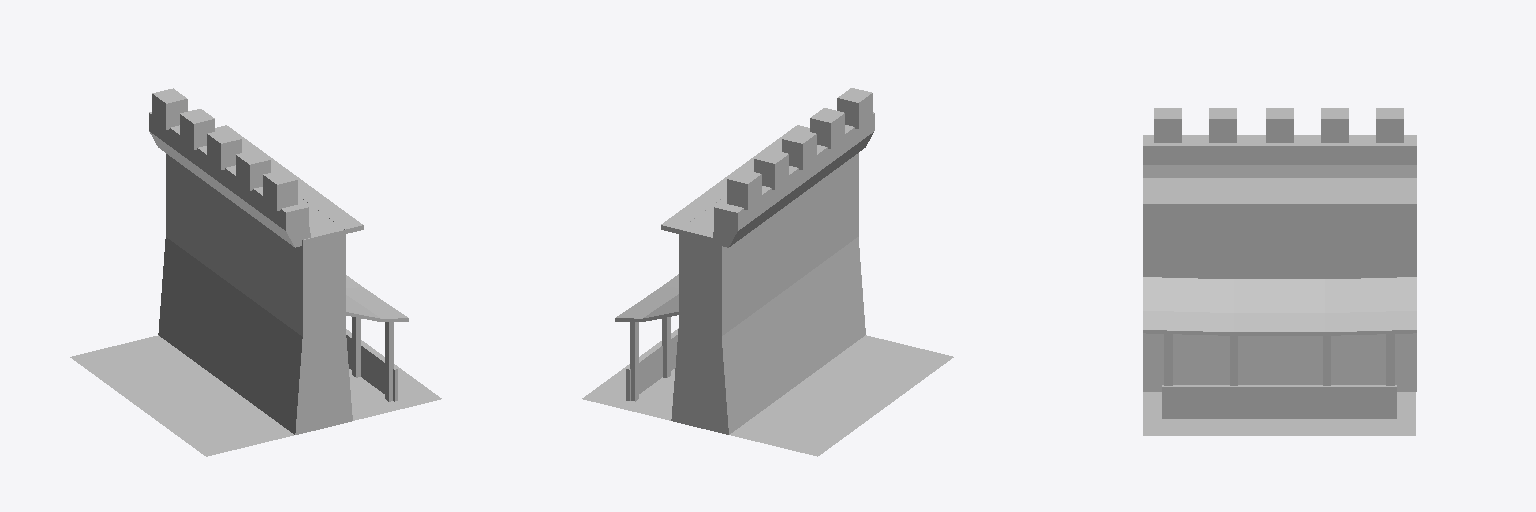
File: WallLeanTo1Coll.obj
3 renders of one model, left to right at view 1: azimuth 30°, elevation 25°; view 2: azimuth 150°, elevation 25°; view 3: azimuth 270°, elevation 25°, orthographic.
Parts seen in each view (by area): view 1: 11_-_Default; view 2: 11_-_Default; view 3: 11_-_Default.
Part boxes in pixels (x1,y1,x2,y2): 11_-_Default: (70,88,441,456); 11_-_Default: (582,88,953,456); 11_-_Default: (1143,108,1416,435).
Size of the model in its own units: 76 by 78.22 by 76.42.